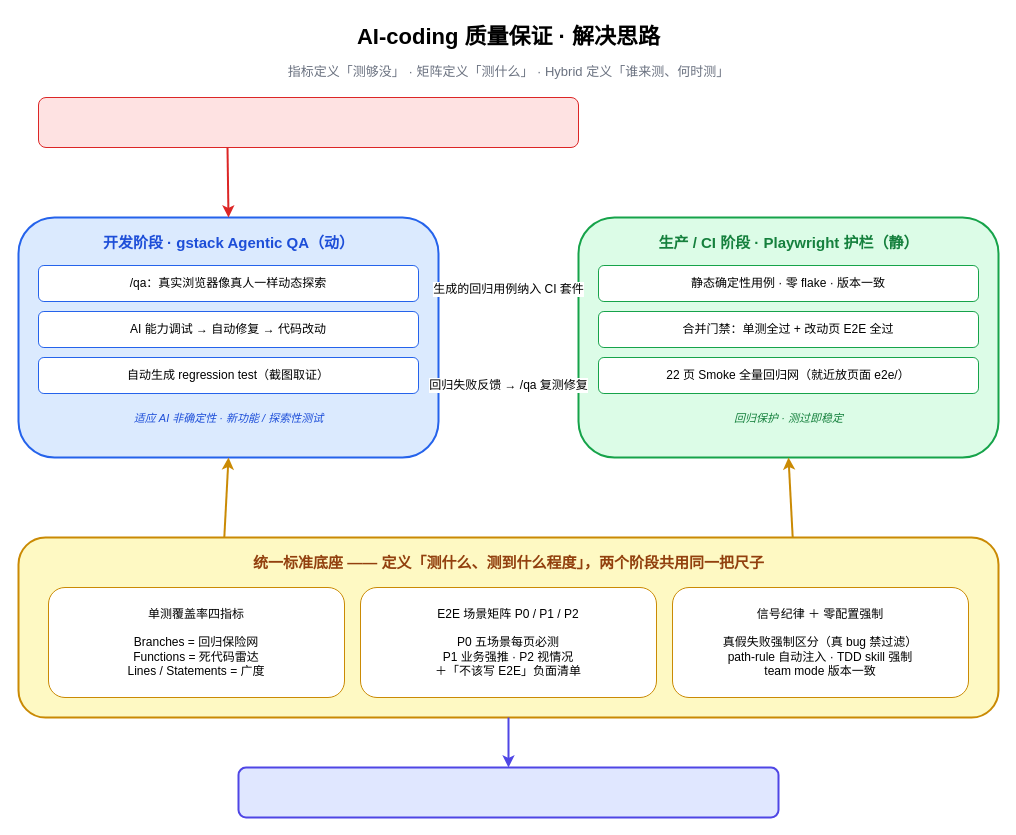
Some shapes in this 1016 by 835 pixel diagram are drawn without their labels. The shapes that lost their labels are listed below. From the top down, each one's box as (x1, y1, x2, y2) in pixels, then its label:
(38, 96, 578, 148): 问题：AI 产出是概率性的，肉眼 review 无法稳定拦截幻觉 API / 漏分支
(237, 766, 779, 818): 结果：概率性产出 → 收敛为稳定交付（测过即稳定，回归 Bug 显著下降）
